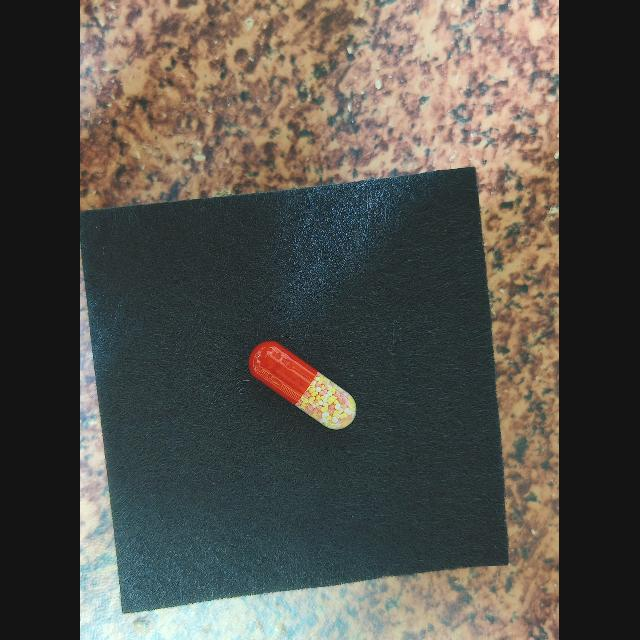Intact Capsule: (249, 341, 357, 430)
